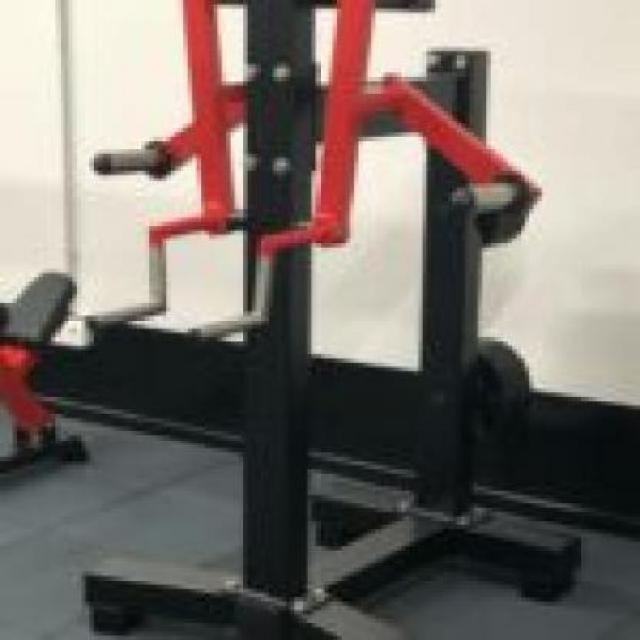lateral raises machine: (75, 0, 588, 640)
